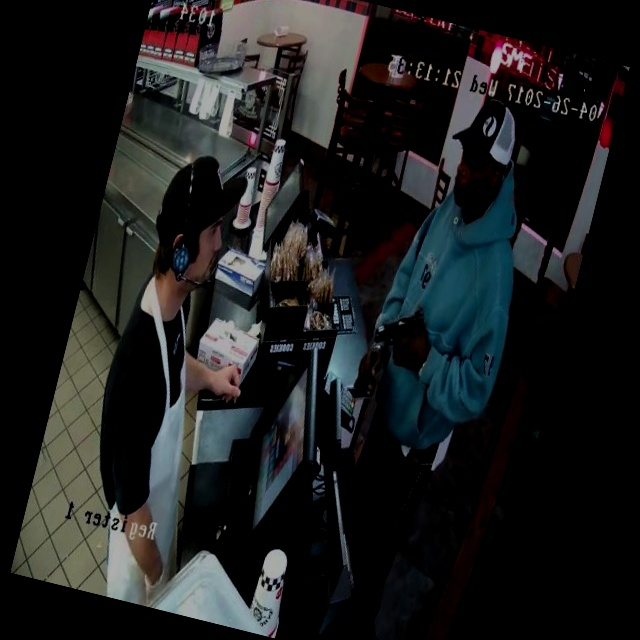gun: (357, 286, 443, 368)
